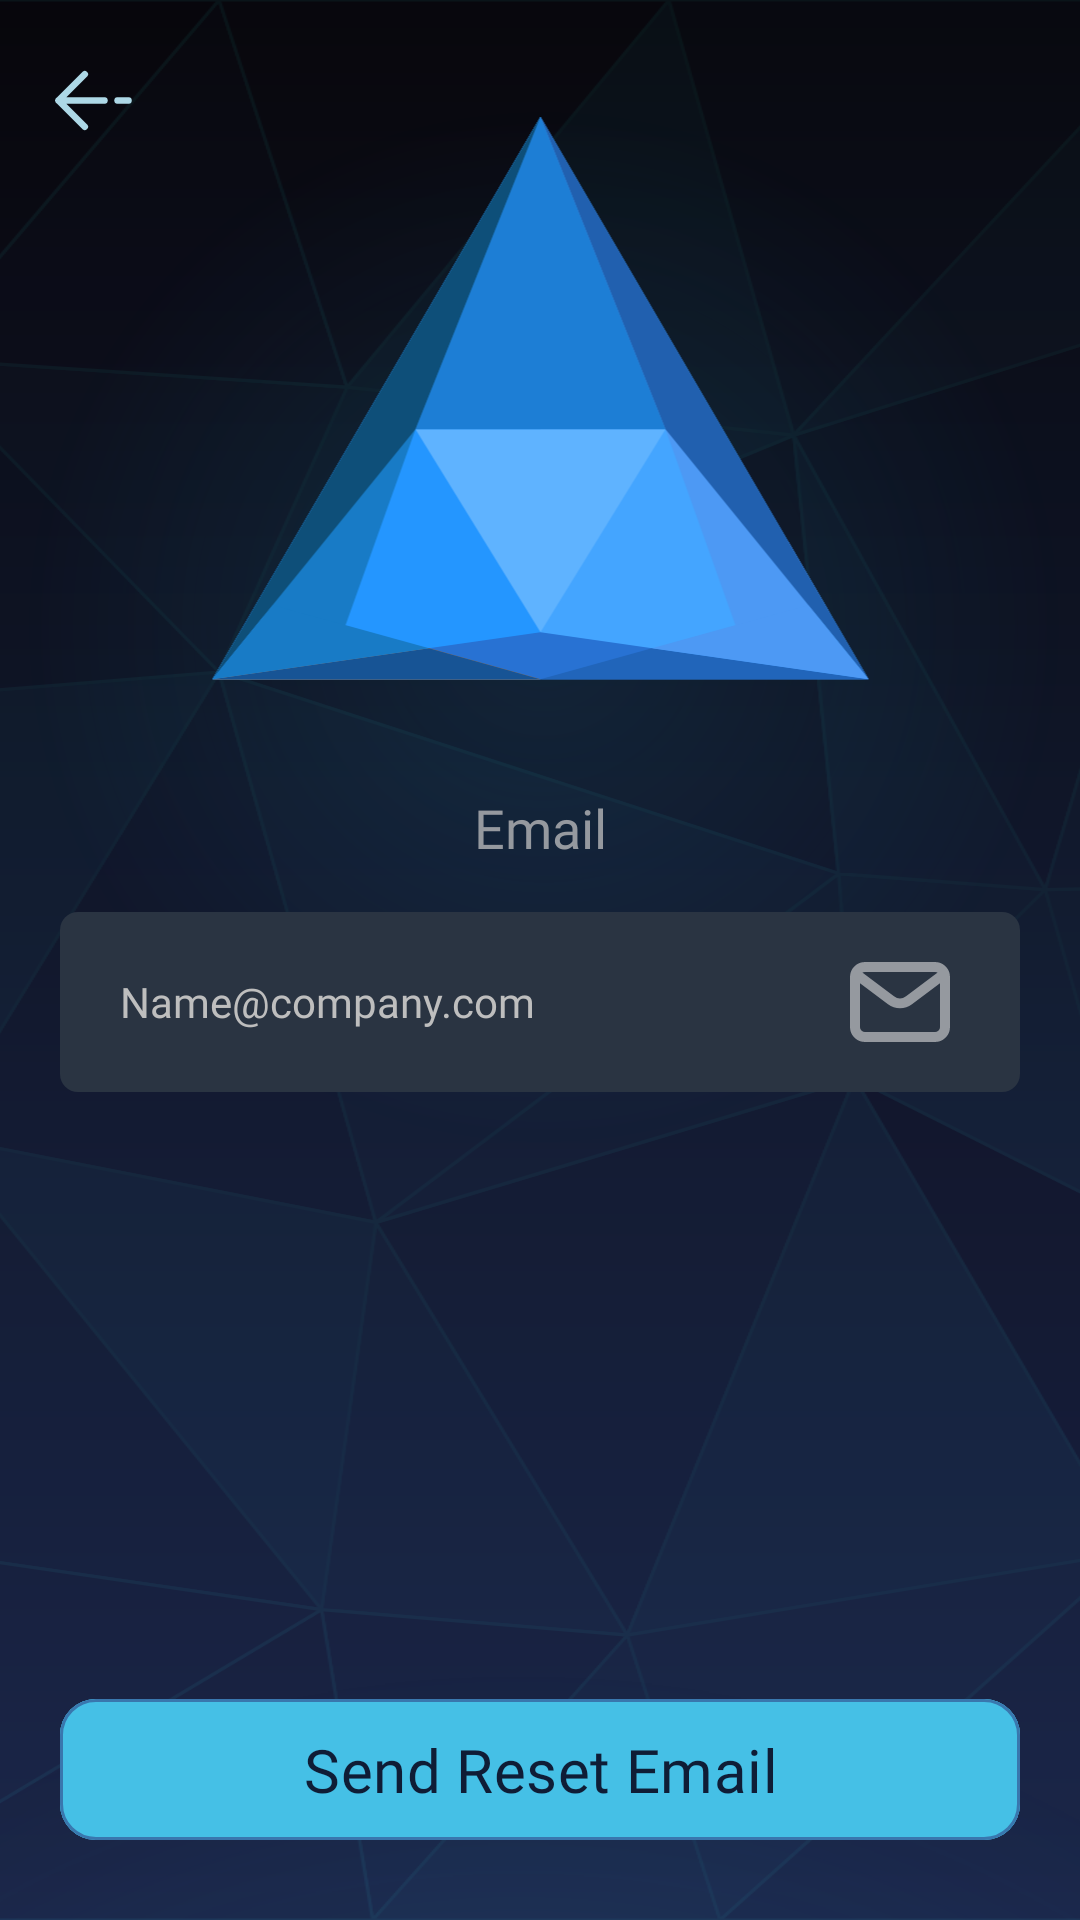

Named icons in this screenshot (1080*1920) and their bounding boxes, (x1, y1, x2, y2):
arrow back: (55, 70, 132, 131)
